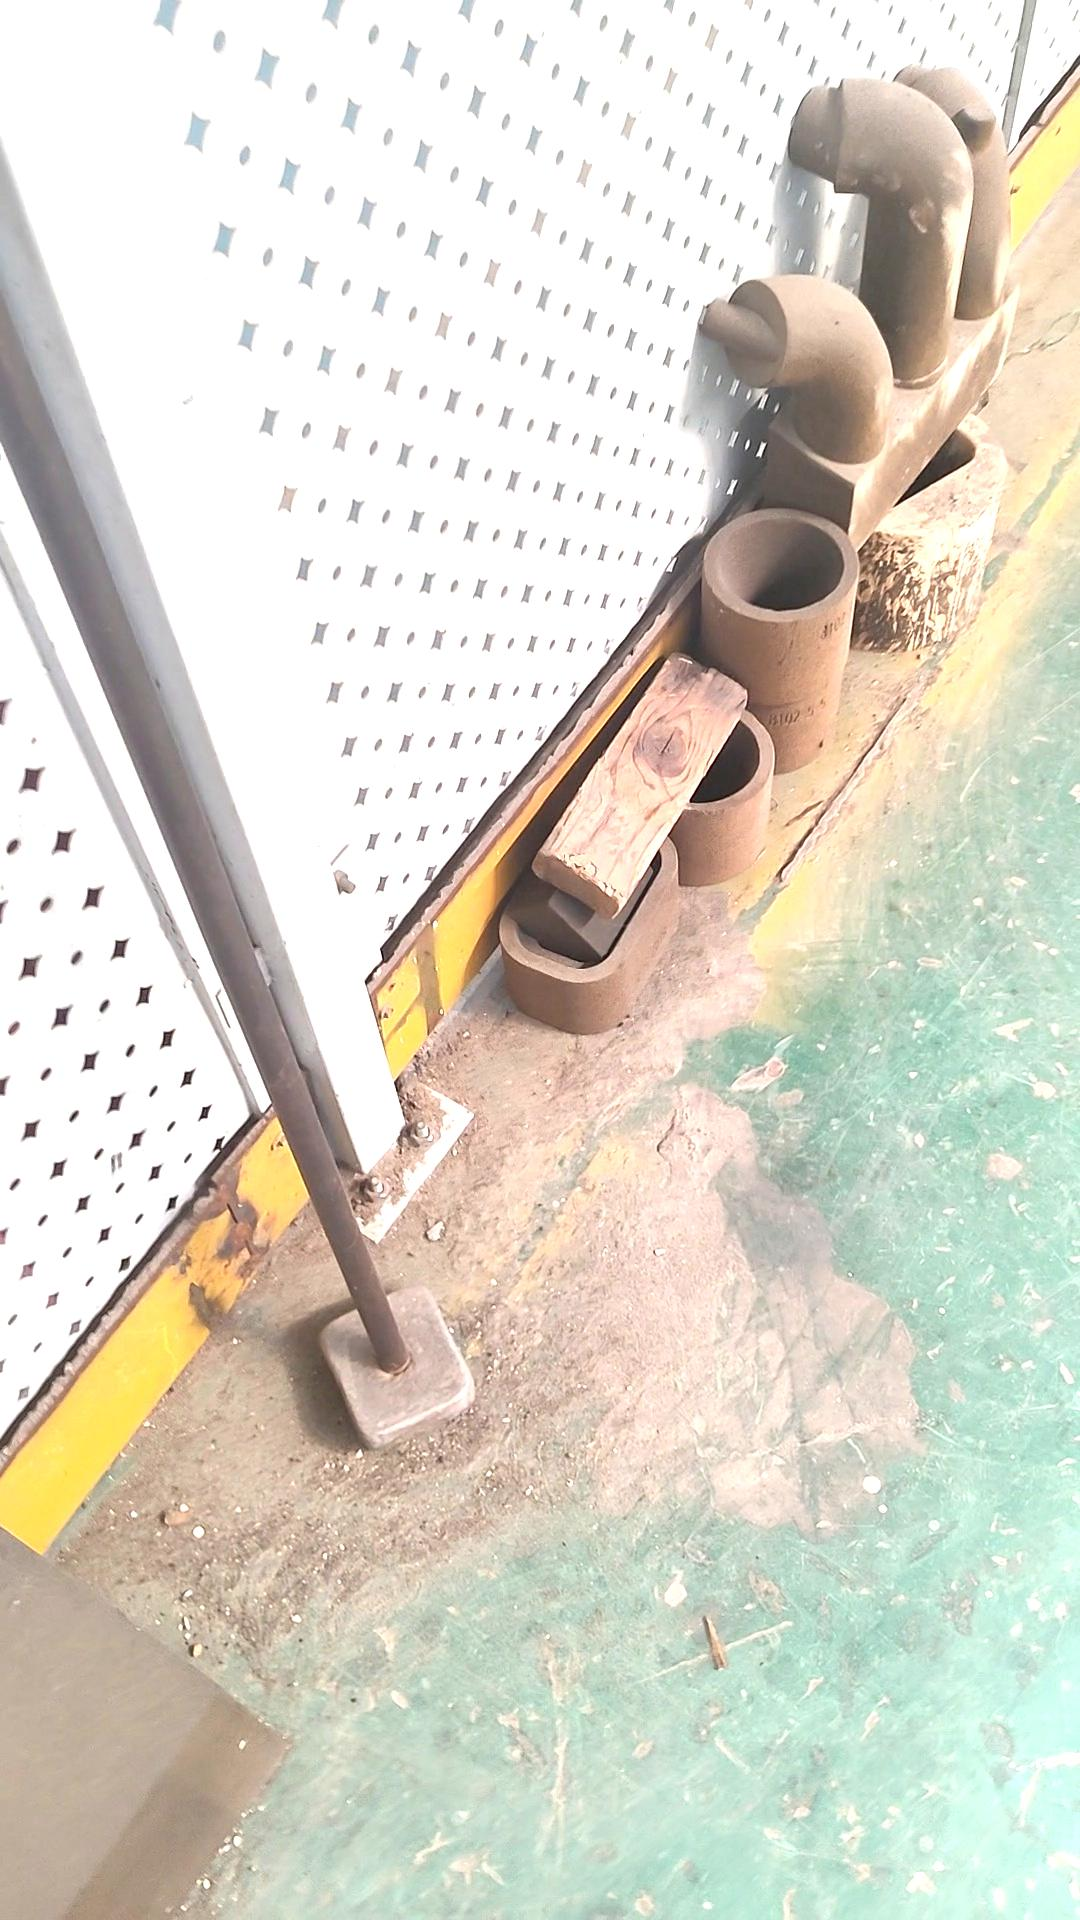pouring hole: (717, 516, 845, 611), (647, 709, 760, 804)
